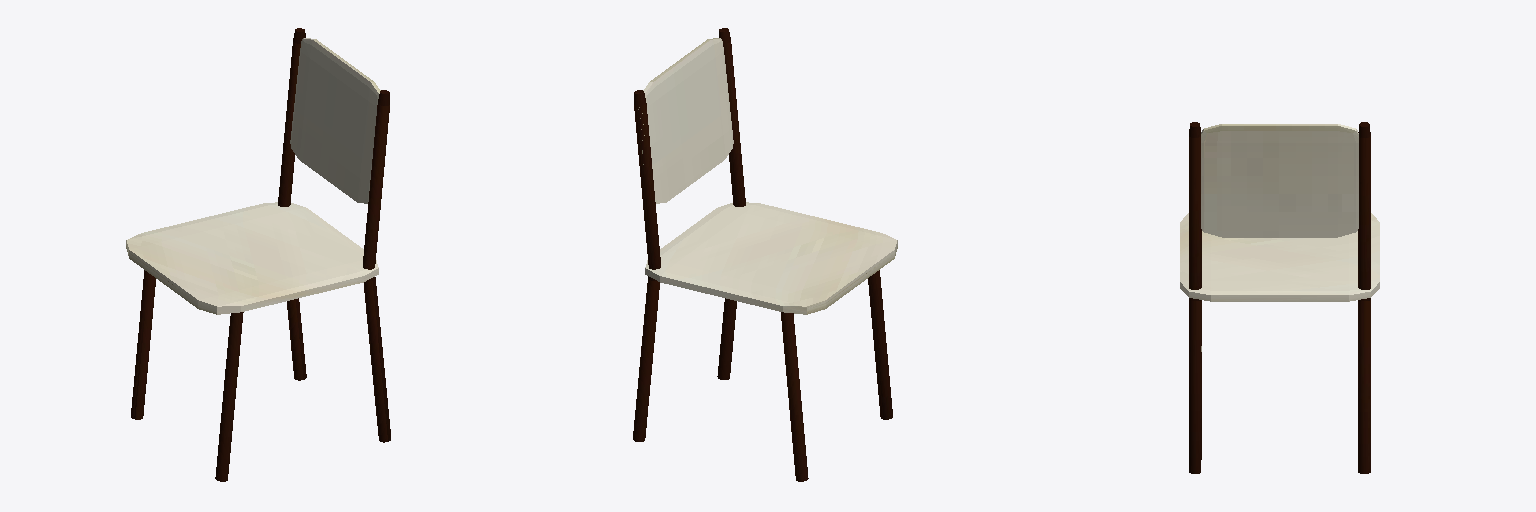
The picture shows the model from 3 angles: view 1: azimuth 30°, elevation 25°; view 2: azimuth 150°, elevation 25°; view 3: azimuth 270°, elevation 25°; orthographic projection.
Parts seen in each view (by area): view 1: Cube.002, Cube.001, Cylinder.005, Cylinder, Cylinder.002, Cylinder.001, Cylinder.004, Cylinder.003; view 2: Cube.002, Cube.001, Cylinder.004, Cylinder.001, Cylinder.003, Cylinder, Cylinder.005, Cylinder.002; view 3: Cube.001, Cube.002, Cylinder.002, Cylinder.003, Cylinder.004, Cylinder.005.
Part boxes in pixels (x1,y1,x2,y2): Cube.002: (126, 202, 378, 314); Cube.001: (290, 38, 380, 203); Cylinder.005: (363, 90, 389, 269); Cylinder: (215, 312, 243, 481); Cylinder.002: (364, 277, 390, 442); Cylinder.001: (131, 270, 155, 419); Cylinder.004: (278, 28, 305, 206); Cylinder.003: (287, 298, 306, 380); Cube.002: (645, 202, 897, 314); Cube.001: (643, 38, 733, 203); Cylinder.004: (634, 90, 660, 269); Cylinder.001: (781, 312, 808, 481); Cylinder.003: (633, 276, 659, 441); Cylinder: (868, 270, 892, 419); Cylinder.005: (719, 28, 745, 206); Cylinder.002: (717, 298, 736, 379); Cube.001: (1201, 124, 1358, 237); Cube.002: (1180, 213, 1379, 301); Cylinder.002: (1189, 298, 1201, 473); Cylinder.003: (1358, 298, 1370, 473); Cylinder.004: (1358, 122, 1370, 289); Cylinder.005: (1189, 122, 1201, 289).
Bounding box in the file's own units: 3.27 × 5.9 × 3.06.
8 materials, 1 textured.